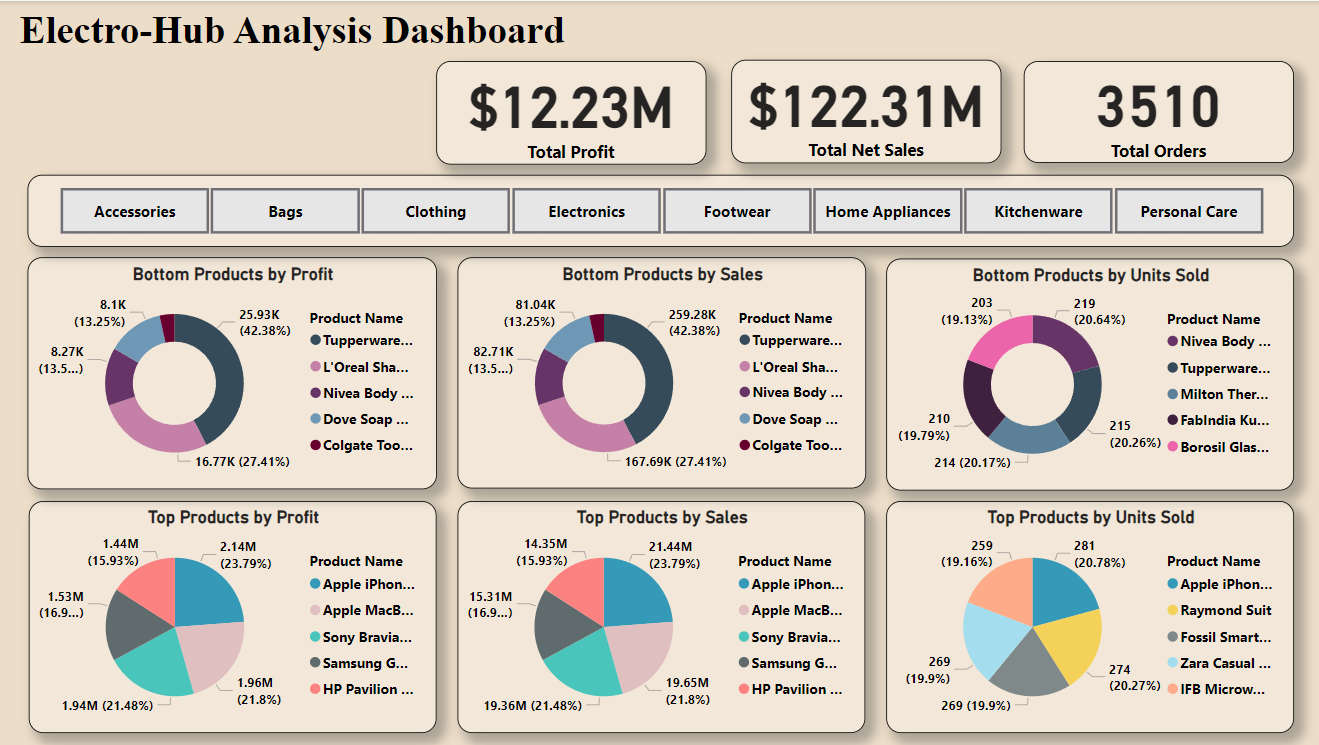

Layout of this report page (visuals, bound fields, positions):
{"tool":"powerbi","page":{"name":"Page 1","canvas":[1280,720],"ordinal":0},"visuals":[{"type":"pieChart","title":"Top Products by Sales","fields":{"Category":["Dim Product.Product Name"],"Y":["Sum(Fact Table.Net Sales)"]},"box":[441.9,483,393.8,223.7],"z":0},{"type":"donutChart","title":"Bottom Products by Sales","fields":{"Category":["Dim Product.Product Name"],"Y":["Sum(Fact Table.Net Sales)"]},"box":[441.6,247.3,394.5,223.2],"z":1000},{"type":"pieChart","title":" Top Products by Profit","fields":{"Category":["Dim Product.Product Name"],"Y":["Sum(Fact Table.Profit)"]},"box":[27.4,483,393.8,223.7],"z":2000},{"type":"donutChart","title":"Bottom Products by Profit","fields":{"Category":["Dim Product.Product Name"],"Y":["Sum(Fact Table.Profit)"]},"box":[26.1,247,395.2,223.7],"z":3000},{"type":"donutChart","title":"Bottom Products by Units Sold","fields":{"Category":["Dim Product.Product Name"],"Y":["Sum(Fact Table.Units Sold)"]},"box":[854.9,248.4,393.8,223.7],"z":4000},{"type":"pieChart","title":"Top Products by Units Sold","fields":{"Category":["Dim Product.Product Name"],"Y":["Sum(Fact Table.Units Sold)"]},"box":[854.9,483,393.8,223.7],"z":5000},{"type":"card","fields":{"Values":["Fact Table.Total Orders"]},"box":[988,57.6,260.7,98.8],"z":6000},{"type":"slicer","fields":{"Values":["Dim Product.Product Line"]},"box":[26.1,167.4,1222.6,70],"z":7000},{"type":"textbox","box":[0,1.4,564,56.3],"z":8000},{"type":"card","fields":{"Values":["Fact Table.Total Net Sales"]},"box":[705.3,56.3,260.7,100.2],"z":9000},{"type":"card","fields":{"Values":["Fact Table.Total Profit"]},"box":[421.3,57.6,260.7,100.2],"z":10000}]}

Visuals, with their boxes in screenshot pixels (x1, y1, x2, y2), scaled from the page's 1280x720 canvas onto the 1319x745 screenshot:
"Top Products by Sales" pieChart: bbox=[455, 500, 861, 731]
"Bottom Products by Sales" donutChart: bbox=[455, 256, 862, 487]
" Top Products by Profit" pieChart: bbox=[28, 500, 434, 731]
"Bottom Products by Profit" donutChart: bbox=[27, 256, 434, 487]
"Bottom Products by Units Sold" donutChart: bbox=[881, 257, 1287, 488]
"Top Products by Units Sold" pieChart: bbox=[881, 500, 1287, 731]
card - Fact Table.Total Orders: bbox=[1018, 60, 1287, 162]
slicer - Dim Product.Product Line: bbox=[27, 173, 1287, 246]
textbox: bbox=[0, 1, 581, 60]
card - Fact Table.Total Net Sales: bbox=[727, 58, 995, 162]
card - Fact Table.Total Profit: bbox=[434, 60, 703, 163]
